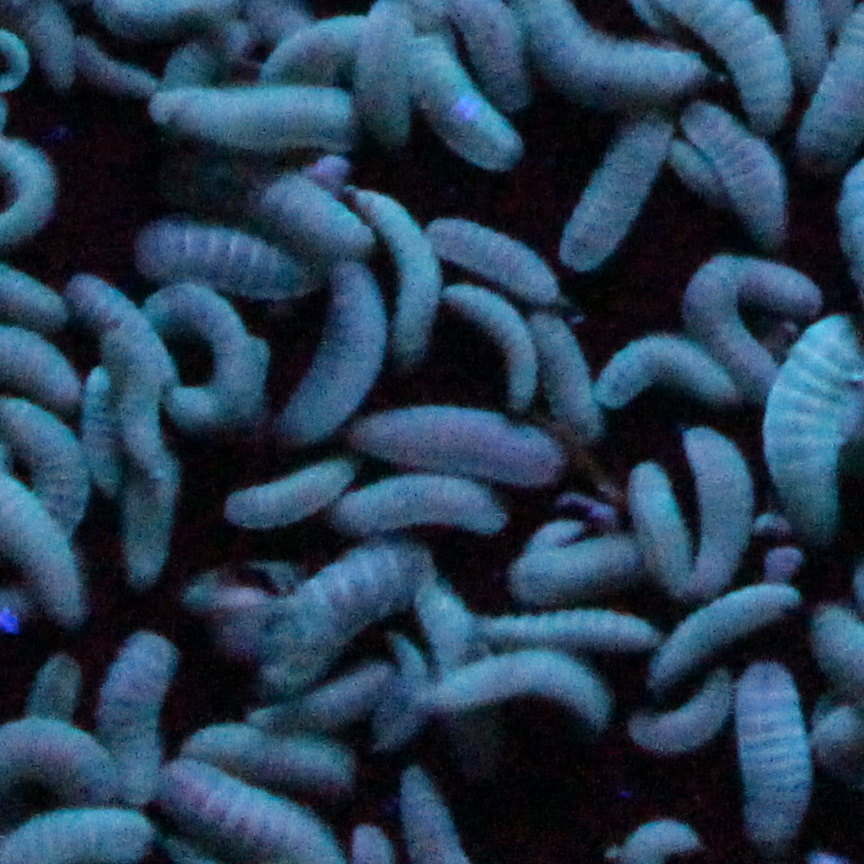larve: (260, 551, 443, 690), (766, 309, 856, 555), (148, 75, 377, 163), (670, 250, 823, 381), (279, 268, 388, 451), (345, 185, 445, 376), (564, 113, 676, 280), (408, 20, 522, 170), (141, 288, 262, 428), (733, 663, 821, 854), (358, 408, 577, 480), (686, 104, 793, 251), (429, 652, 615, 735), (177, 723, 365, 801), (139, 225, 322, 302), (686, 420, 757, 597), (69, 268, 173, 387), (107, 633, 179, 804), (443, 282, 538, 411), (426, 216, 560, 304), (508, 523, 655, 601), (533, 306, 607, 451), (219, 456, 353, 532), (620, 670, 741, 754), (620, 459, 695, 594), (333, 476, 514, 530), (598, 337, 734, 404), (471, 610, 657, 653)
